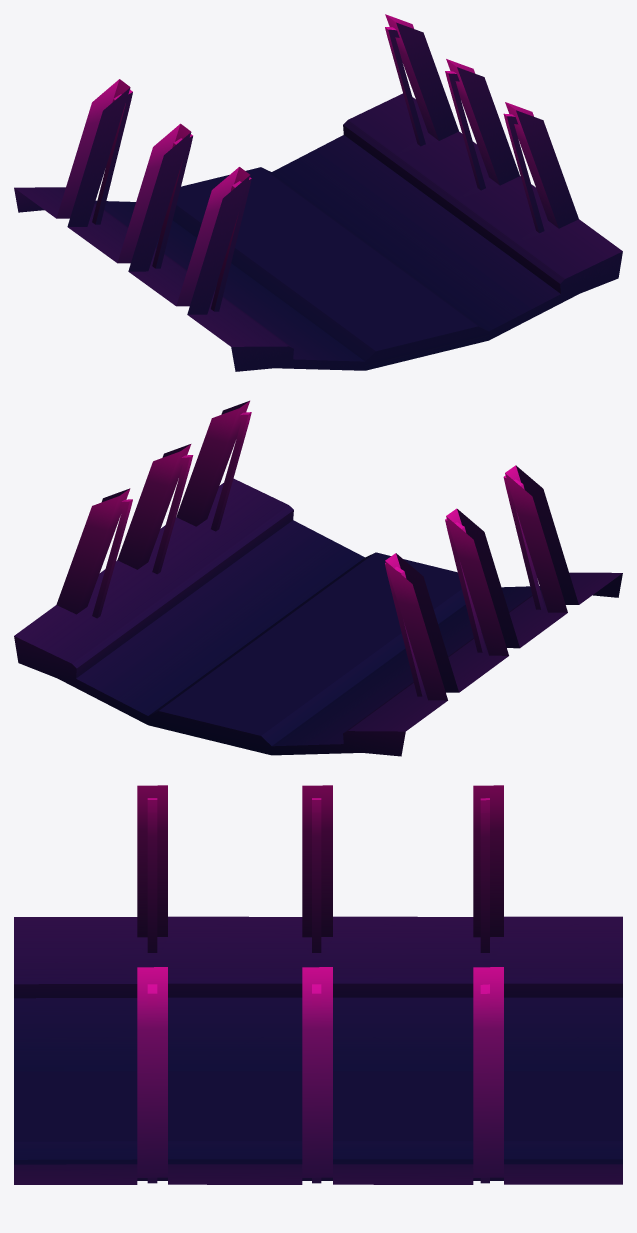
Rendered from inner_tonnel_002.fbx.
3 views of the same model, one above another, from view 1: azimuth 30°, elevation 25°; view 2: azimuth 150°, elevation 25°; view 3: azimuth 270°, elevation 25° (orthographic). The views are drawn at different scales.
Visible parts, largest first — view 1: inner_tonnel_002; view 2: inner_tonnel_002; view 3: inner_tonnel_002.
Boxes of the visible parts, x1,y1,x2,y2 form: inner_tonnel_002: (14, 14, 622, 371); inner_tonnel_002: (14, 400, 622, 756); inner_tonnel_002: (14, 785, 622, 1184).
Bounding box in the file's own units: 9.53 × 4.21 × 9.15.
